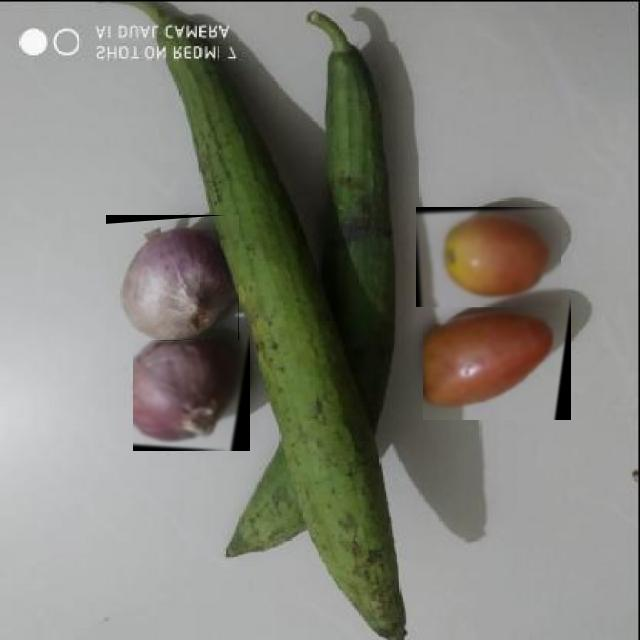onion: (104, 216, 238, 342), (133, 332, 250, 451)
tomato: (423, 297, 571, 420), (416, 207, 561, 307)
